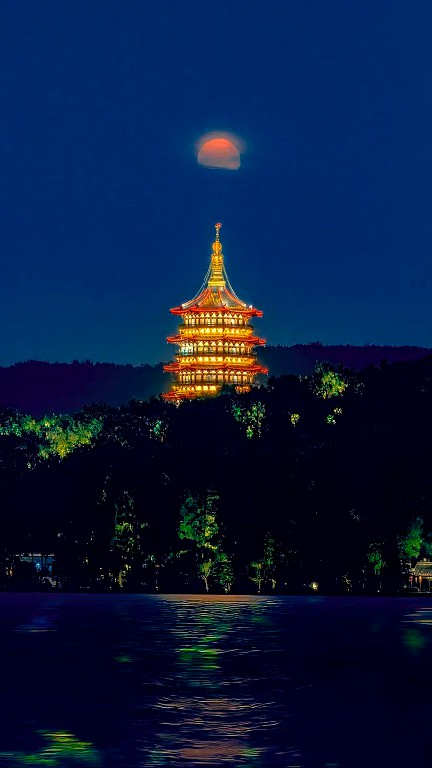Leifeng: (166, 223, 273, 400)
